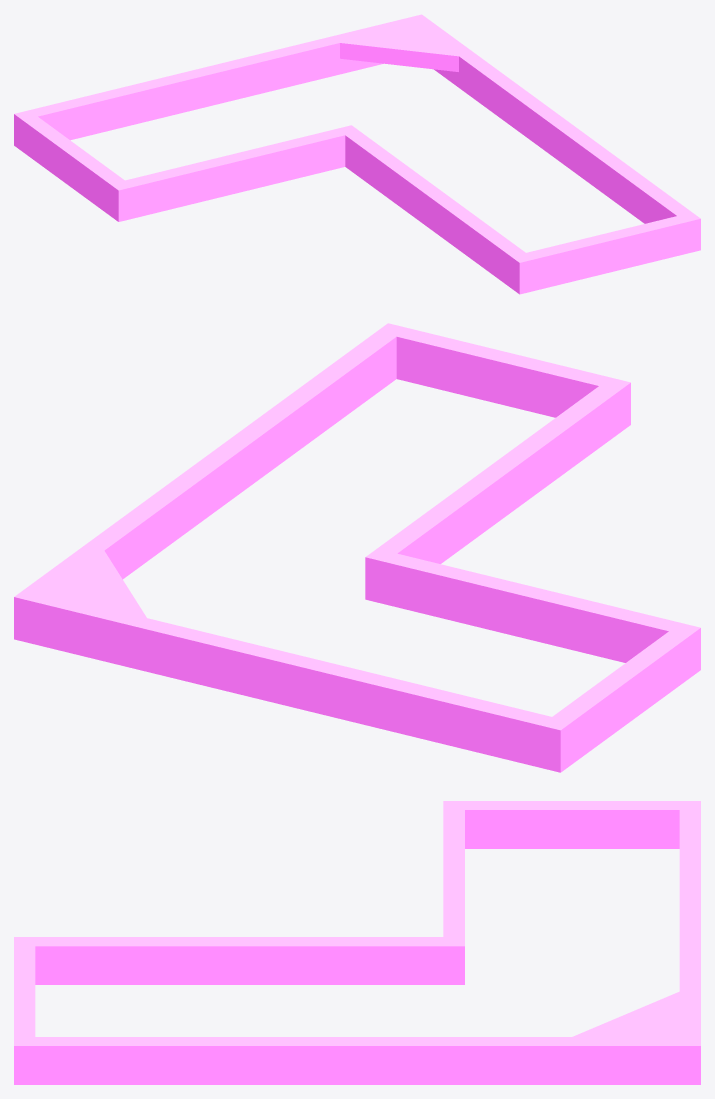
Rendered from Hole 1 Trim.glb.
The picture shows the model from 3 angles, top to bottom: view 1: azimuth 30°, elevation 25°; view 2: azimuth 150°, elevation 25°; view 3: azimuth 270°, elevation 25°; orthographic projection. The views are drawn at different scales.
Visible parts, largest first — view 1: Trim; view 2: Trim; view 3: Trim.
Boxes of the visible parts, x1,y1,x2,y2 form: Trim: [14, 14, 700, 294]; Trim: [14, 323, 700, 772]; Trim: [14, 801, 700, 1084].
Size of what is drawn, in the model's own units: 5.4 by 0.4 by 6.4.
